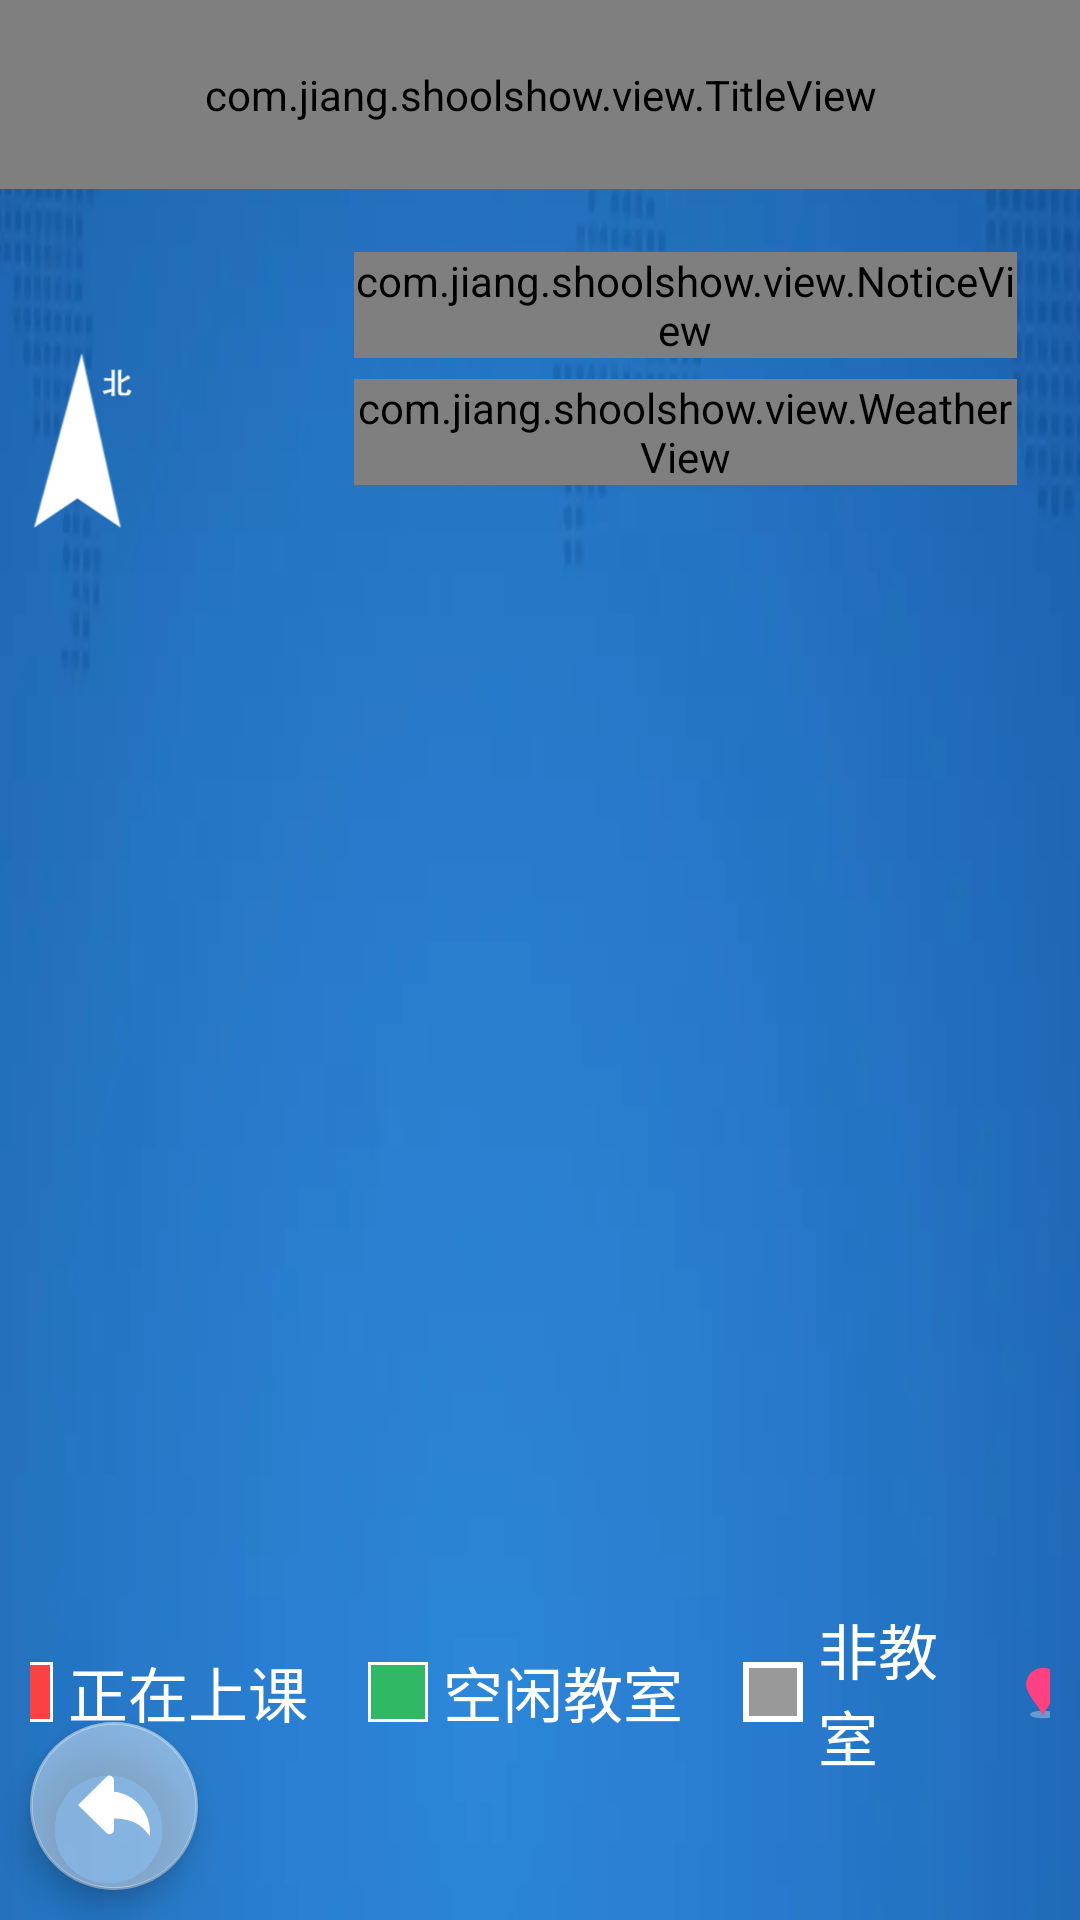

Icon bounding boxes for this 1080×1920 phone screenshot, format (x1, y1, x2, y2):
back: (30, 1722, 198, 1890)
position: (1026, 1667, 1050, 1718)
